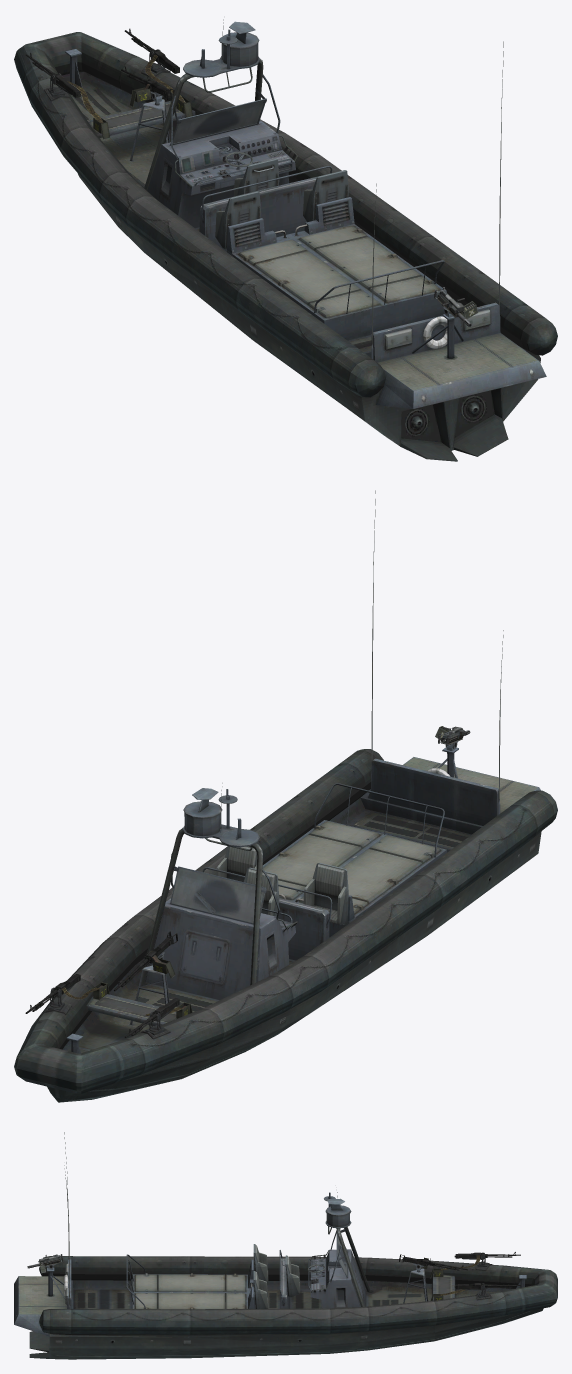
File: Warhorse_Patrol_Boat.obj
The picture shows the model from 3 angles, top to bottom: view 1: azimuth 30°, elevation 25°; view 2: azimuth 150°, elevation 25°; view 3: azimuth 270°, elevation 25°; orthographic projection. The views are drawn at different scales.
Parts seen in each view (by area): view 1: DrawCall_0587, DrawCall_0741, DrawCall_0661, DrawCall_0663, DrawCall_0660; view 2: DrawCall_0587, DrawCall_0741, DrawCall_0663; view 3: DrawCall_0587, DrawCall_0663, DrawCall_0660, DrawCall_0661.
Part boxes in pixels (bbox=[...]): DrawCall_0587: bbox=[14, 19, 557, 461]; DrawCall_0741: bbox=[173, 100, 263, 143]; DrawCall_0661: bbox=[434, 287, 477, 326]; DrawCall_0663: bbox=[121, 66, 174, 106]; DrawCall_0660: bbox=[124, 28, 192, 117]; DrawCall_0587: bbox=[14, 490, 557, 1102]; DrawCall_0741: bbox=[171, 868, 263, 922]; DrawCall_0663: bbox=[114, 931, 177, 991]; DrawCall_0587: bbox=[14, 1132, 557, 1359]; DrawCall_0663: bbox=[399, 1254, 467, 1270]; DrawCall_0660: bbox=[430, 1282, 520, 1300]; DrawCall_0661: bbox=[27, 1254, 63, 1273].
Size of the model in its own units: 3.26 by 5.81 by 11.83.
Materials: 4 (4 with a texture image).
